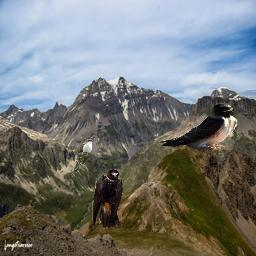Cuckoo: (71, 138, 94, 175)
Swallow: (158, 103, 238, 150), (92, 169, 123, 229)
